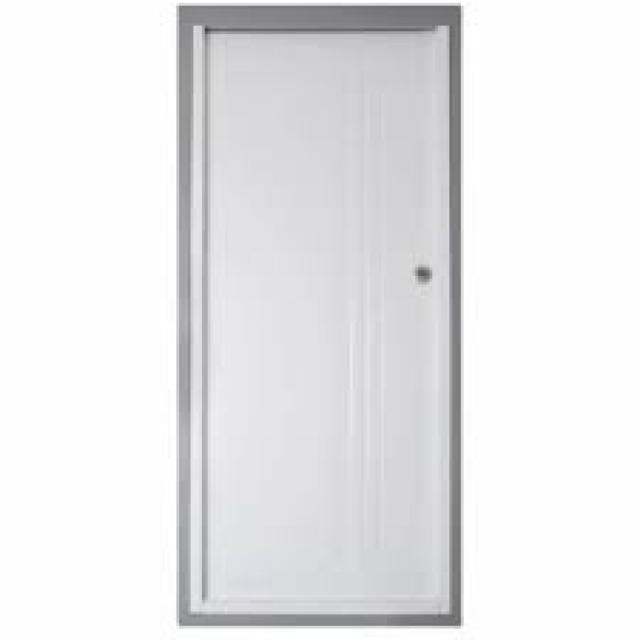door: (178, 7, 462, 627)
